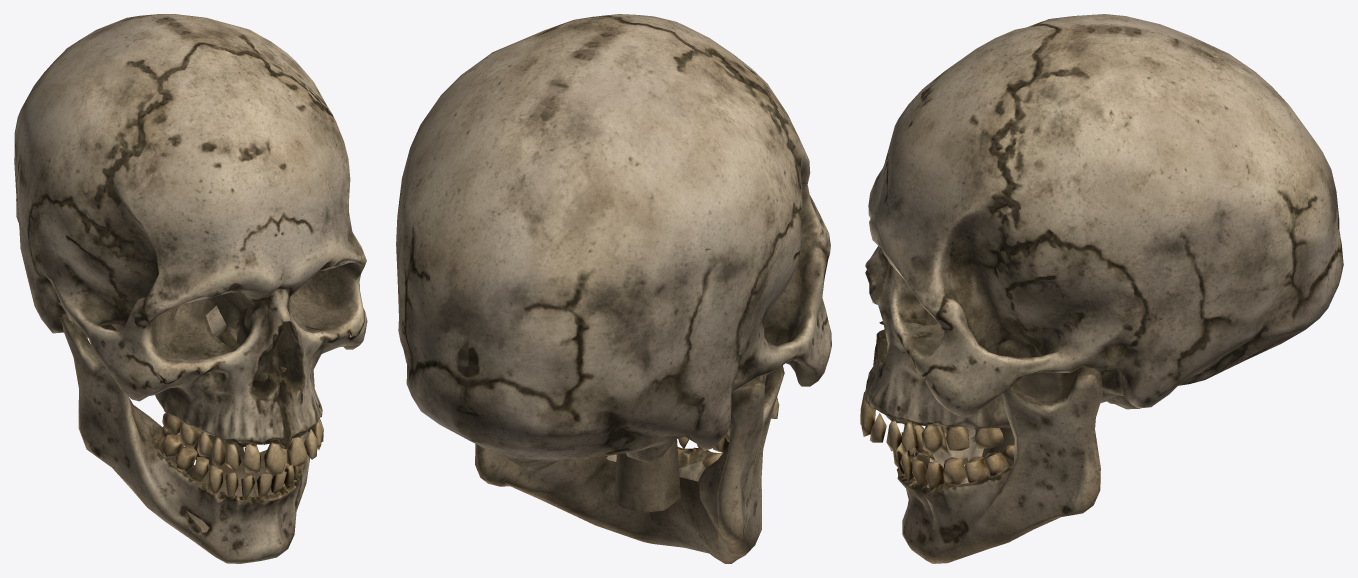
The model's file is game.glb.
3 renders of one model, left to right at view 1: azimuth 30°, elevation 25°; view 2: azimuth 150°, elevation 25°; view 3: azimuth 270°, elevation 25°, orthographic. The views are drawn at different scales.
Visible parts, largest first — view 1: geometry_0; view 2: geometry_0; view 3: geometry_0.
Boxes of the visible parts, x1=… form: geometry_0: x1=14, y1=14, x2=367, y2=563; geometry_0: x1=396, y1=14, x2=831, y2=563; geometry_0: x1=860, y1=14, x2=1343, y2=563.
Bounding box in the file's own units: 0.6105 × 0.9919 × 0.8347.
Materials: 1 (1 with a texture image).
